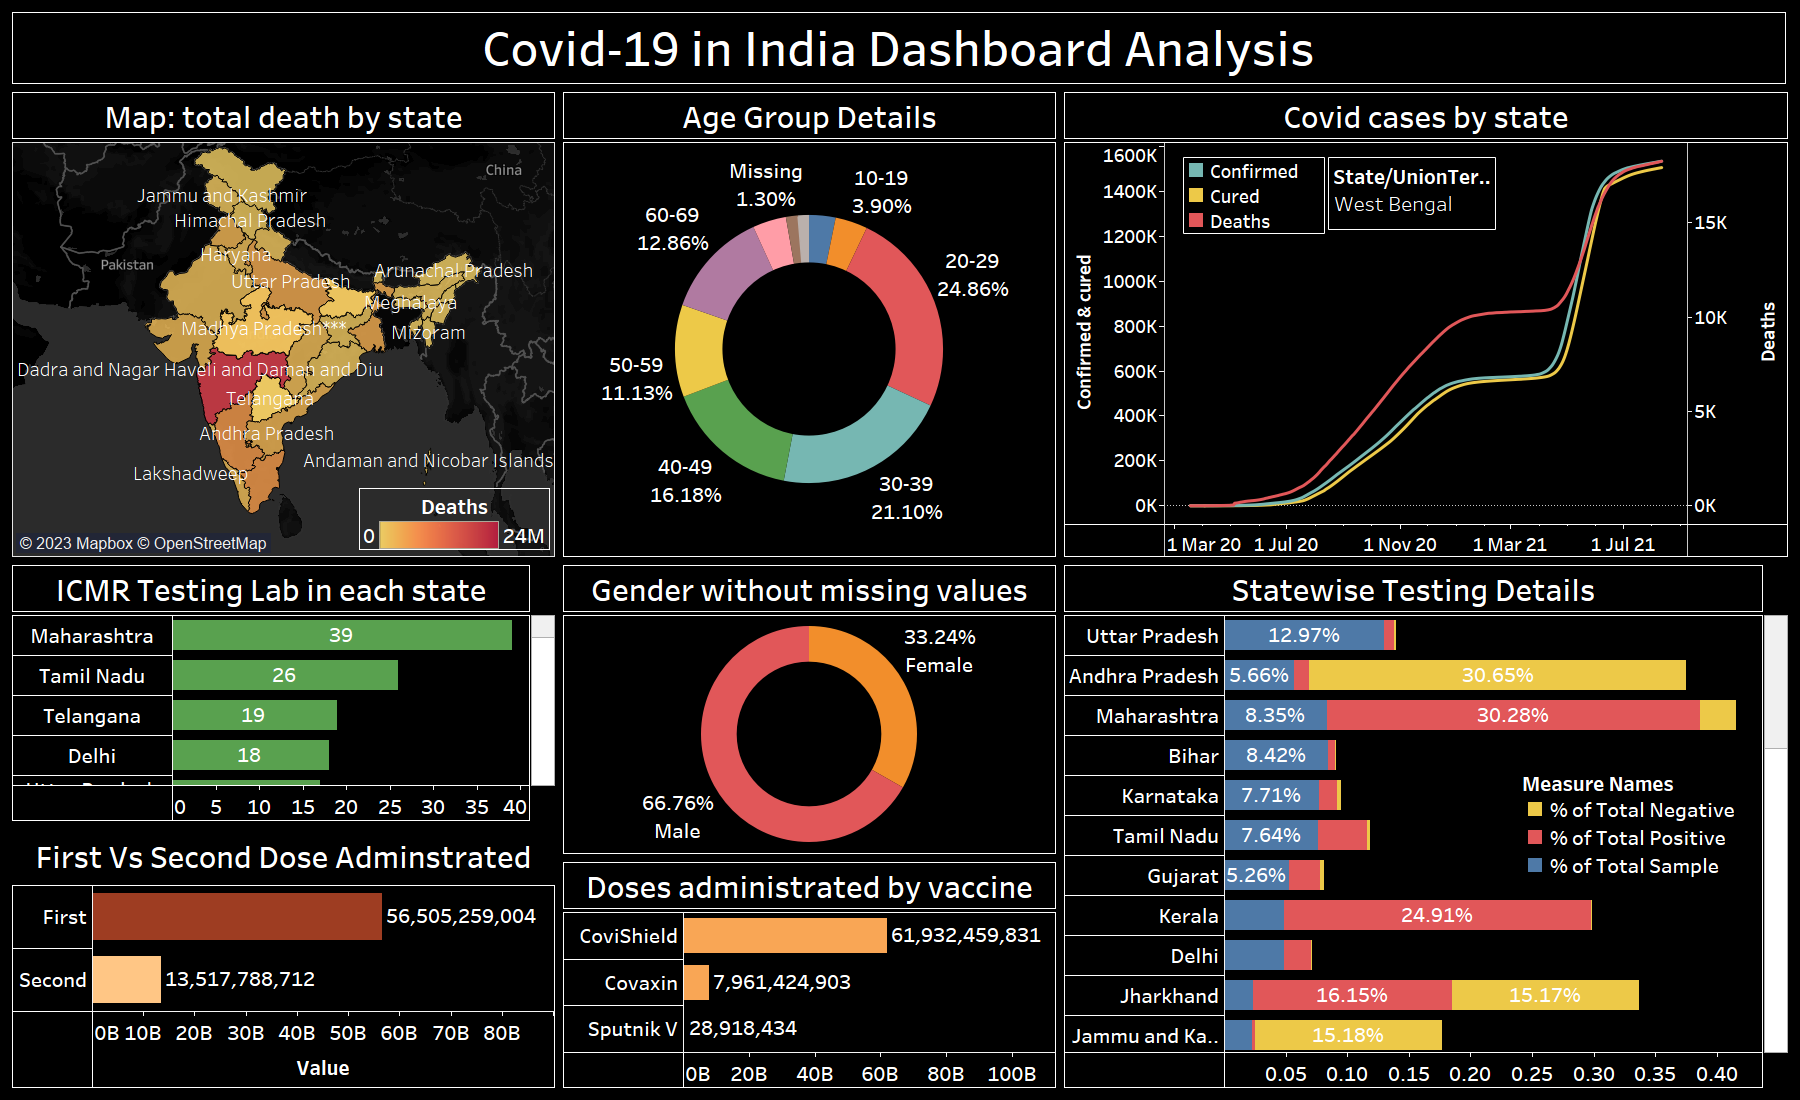

The page's visual inventory and layout, read from the dashboard file:
{"tool":"tableau","page":{"name":"Dashboard 1","canvas":[1800,1100],"ordinal":0},"visuals":[{"type":"worksheet","title":"Title","mark":"Automatic","box":[8,8,1784,80]},{"type":"worksheet","title":"Map: total death by state","mark":"Automatic","box":[8,88,551,473.3]},{"type":"worksheet","title":"Age Group Details","mark":"Pie","rows":["Calculation_1520246385513193473","Calculation_1520246385513267203"],"box":[559,88,501,473.3]},{"type":"worksheet","title":"Covid cases by state","mark":"Automatic","rows":["Deaths"],"cols":["Date"],"box":[1060,88,732,473]},{"type":"legend","title":"Covid cases by state","param":"[federated.05prltf1kjixnm12zml5e0wo2634].[:Measure Names]","box":[1183,157,142,77]},{"type":"filter","title":"Covid cases by state","param":"[federated.05prltf1kjixnm12zml5e0wo2634].[none:State/UnionTerritory:nk]","box":[1328,157,168,73]},{"type":"legend","title":"Map: total death by state","param":"[federated.05prltf1kjixnm12zml5e0wo2634].[sum:Deaths:qk]","box":[359,488,191,62]},{"type":"worksheet","title":"Statewise Testing Details","mark":"Automatic","rows":["State"],"box":[1060,561,732,531]},{"type":"worksheet","title":"ICMR Testing Lab in each state","mark":"Automatic","rows":["state"],"cols":["lab"],"box":[8,561.3,551,263.7]},{"type":"worksheet","title":"Gender without missing values","mark":"Pie","rows":["Calculation_1520246385522581509","Calculation_1520246385522589703"],"box":[559,561.3,501,296.7]},{"type":"legend","title":"Statewise Testing Details","param":"[federated.07xd4aa1esrjp015hy51b0gs6dce].[:Measure Names]","box":[1521,767,219,112]},{"type":"worksheet","title":"First Vs Second Dose Adminstrated","mark":"Automatic","box":[8,825,551,267]},{"type":"worksheet","title":"Doses administrated by vaccine","mark":"Automatic","box":[559,858,501,234]}]}

Visuals, with their boxes in screenshot pixels (x1, y1, x2, y2), scaled from the page's 1800x1100 canvas onto the 1800x1100 screenshot:
"Title" worksheet: <region>8, 8, 1792, 88</region>
"Map: total death by state" worksheet: <region>8, 88, 559, 561</region>
"Age Group Details" worksheet (Pie marks): <region>559, 88, 1060, 561</region>
"Covid cases by state" worksheet: <region>1060, 88, 1792, 561</region>
"Covid cases by state" legend: <region>1183, 157, 1325, 234</region>
"Covid cases by state" filter: <region>1328, 157, 1496, 230</region>
"Map: total death by state" legend: <region>359, 488, 550, 550</region>
"Statewise Testing Details" worksheet: <region>1060, 561, 1792, 1092</region>
"ICMR Testing Lab in each state" worksheet: <region>8, 561, 559, 825</region>
"Gender without missing values" worksheet (Pie marks): <region>559, 561, 1060, 858</region>
"Statewise Testing Details" legend: <region>1521, 767, 1740, 879</region>
"First Vs Second Dose Adminstrated" worksheet: <region>8, 825, 559, 1092</region>
"Doses administrated by vaccine" worksheet: <region>559, 858, 1060, 1092</region>
